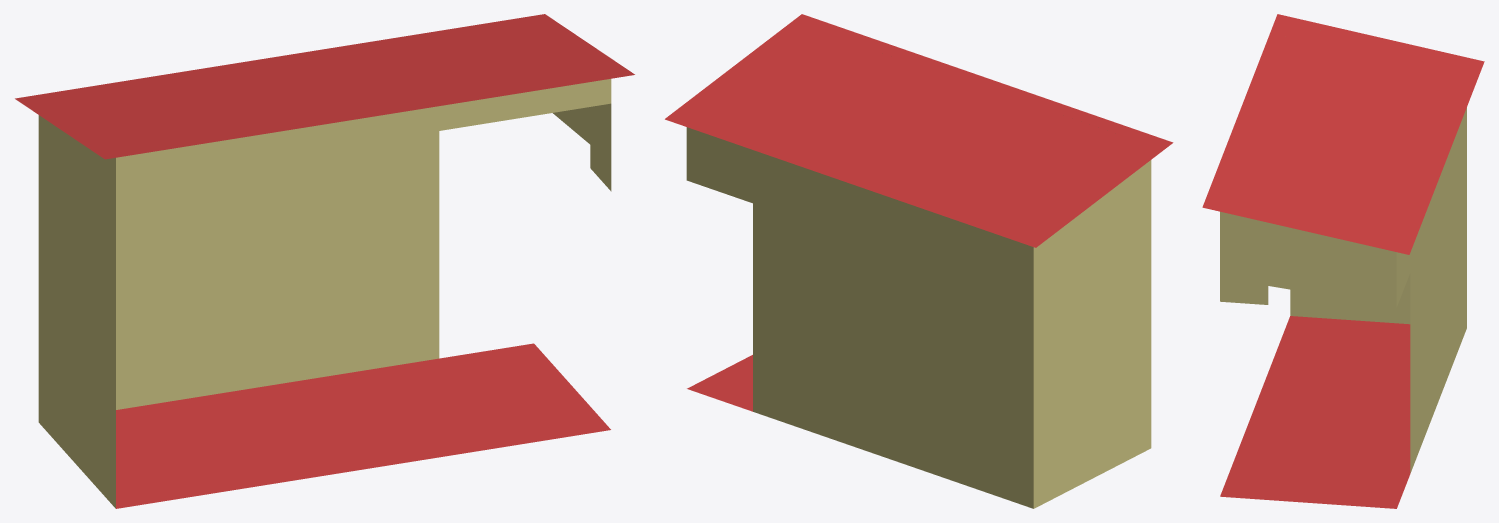
3 renders of one model, left to right at view 1: azimuth 30°, elevation 25°; view 2: azimuth 150°, elevation 25°; view 3: azimuth 270°, elevation 25°, orthographic. The views are drawn at different scales.
Size of the model in its own units: 16.02 by 9.19 by 10.58.
